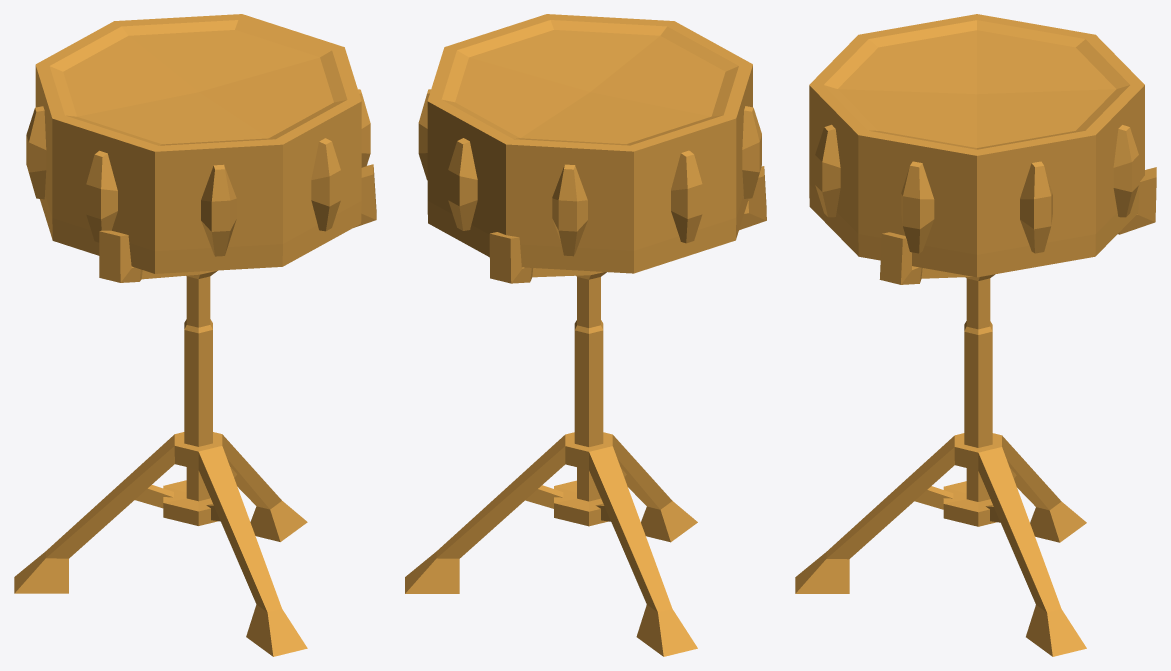
The model's file is drum-snare.fbx.
The picture shows the model from 3 angles, left to right: view 1: azimuth 30°, elevation 25°; view 2: azimuth 150°, elevation 25°; view 3: azimuth 270°, elevation 25°; orthographic projection.
Parts seen in each view (by area): view 1: drum-snare; view 2: drum-snare; view 3: drum-snare.
Boxes of the visible parts, box(x1,y1,x2,y2) form: drum-snare: box(14, 14, 376, 656); drum-snare: box(405, 14, 766, 656); drum-snare: box(795, 14, 1156, 656).
Size of the model in its own units: 0.4017 by 0.6577 by 0.4307.
